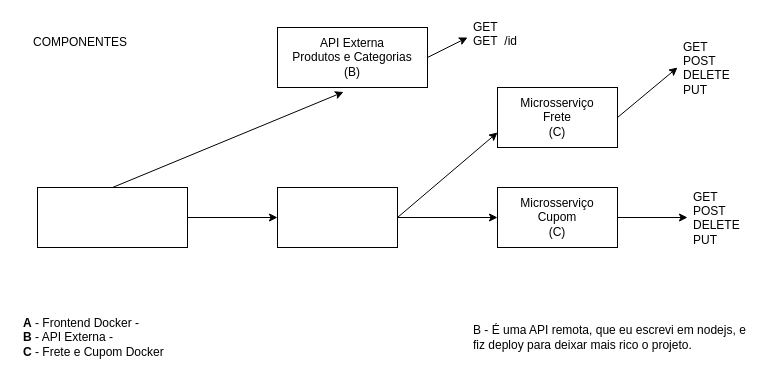
The diagram is 784 pixels wide and 384 high, and some of its shapes have lost their labels. Here are the shapes that lost their labels. From the top down, the centre of each, then its label:
At (x=112, y=217): "Frontend Home e Categorias (A)".
At (x=337, y=217): "Pagina do Produto (A)".
